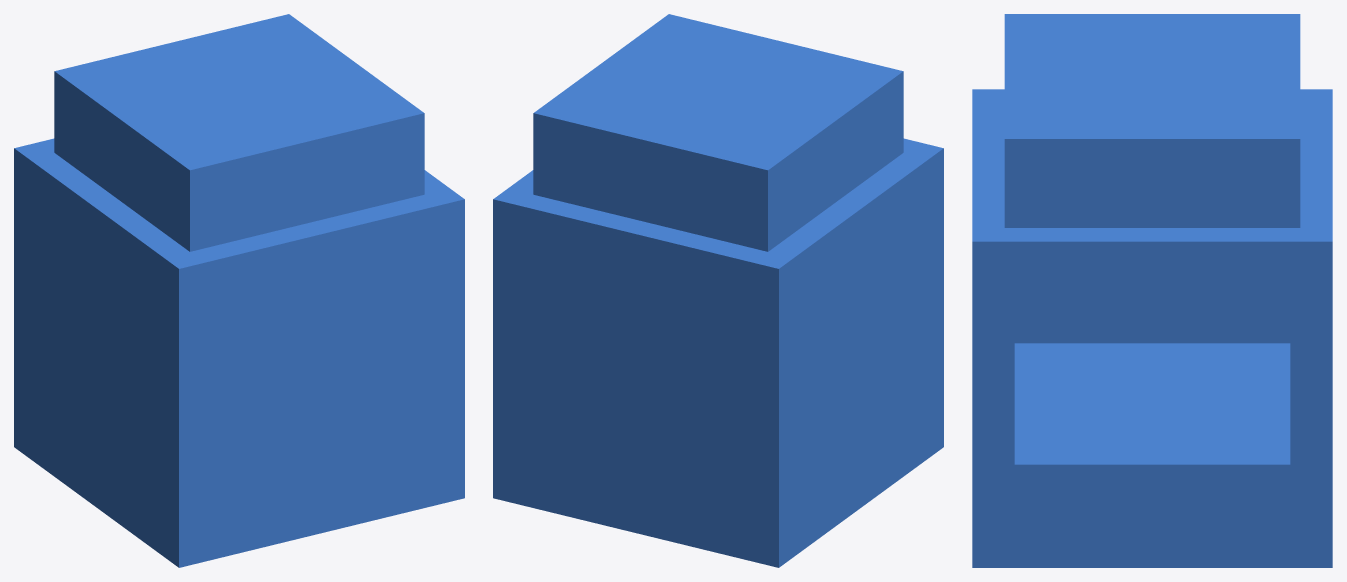
The model's file is ingredientSourcePlaceholder.fbx.
3 renders of one model, left to right at view 1: azimuth 30°, elevation 25°; view 2: azimuth 150°, elevation 25°; view 3: azimuth 270°, elevation 25°, orthographic. The views are drawn at different scales.
Parts seen in each view (by area): view 1: Cube; view 2: Cube; view 3: Cube.
Boxes of the visible parts, x1,y1,x2,y2 form: Cube: (14, 14, 464, 567); Cube: (493, 14, 943, 567); Cube: (972, 14, 1332, 567).
Bounding box in the file's own units: 200 × 200 × 255.
